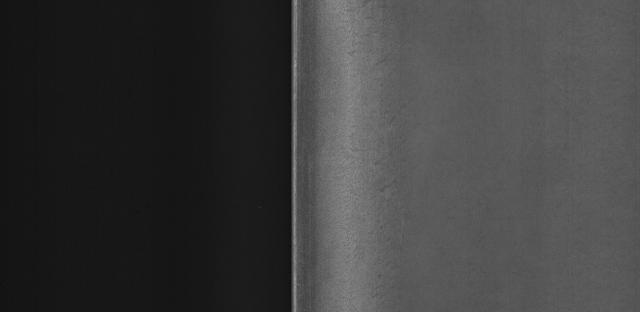silk_spot: (315, 16, 408, 289)
